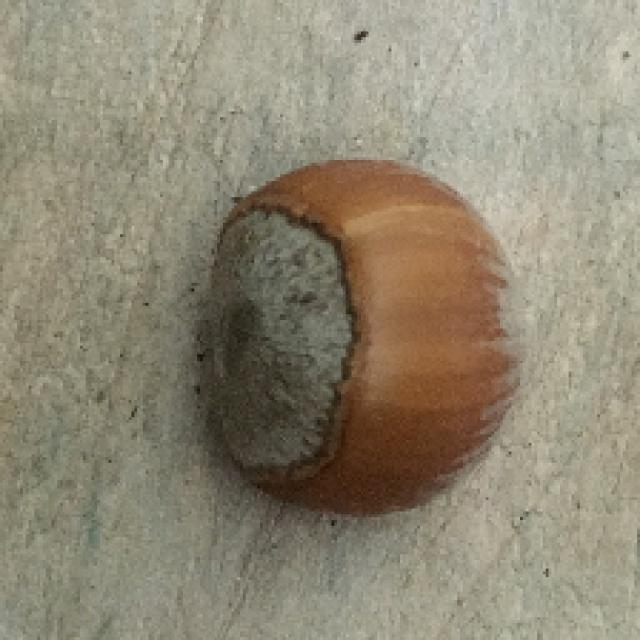qualityHazelnut: (189, 161, 521, 522)
